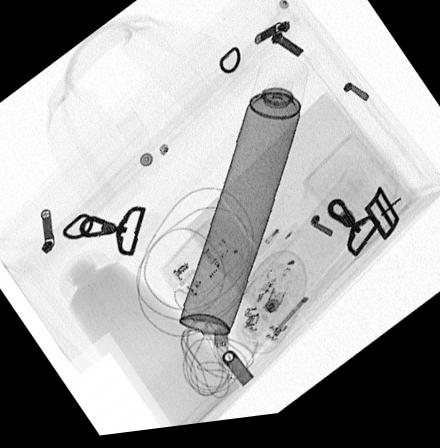Sprayer: (177, 61, 310, 344)
